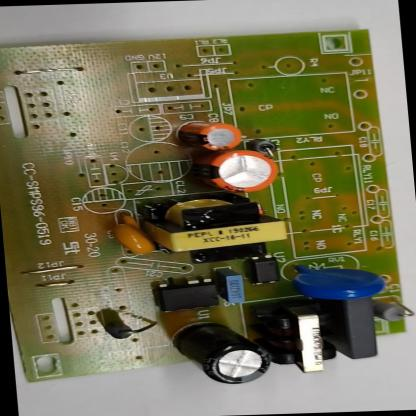Cap1: (200, 149, 280, 192)
Cap2: (178, 118, 240, 152)
Cap3: (175, 320, 270, 386)
MOSFET: (157, 279, 218, 311)
Mov: (289, 264, 386, 300)
Resistor: (374, 298, 416, 321)
Transformer: (144, 196, 290, 260), (262, 309, 347, 371)
